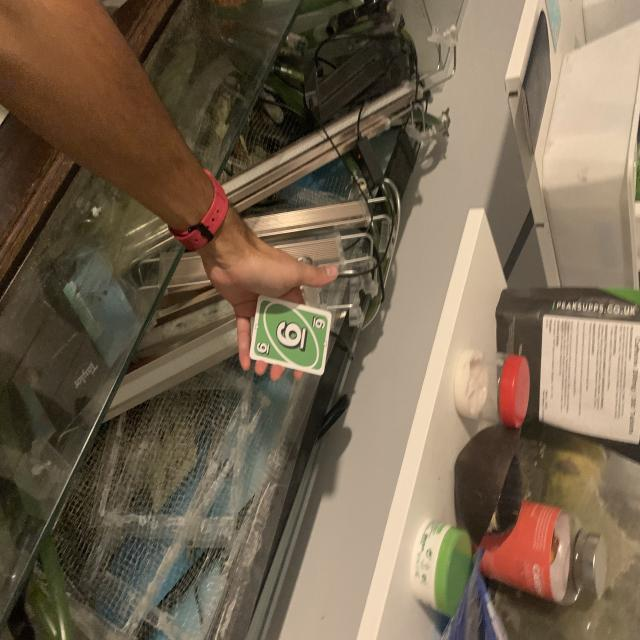lgreen-6: (256, 339, 273, 358)
